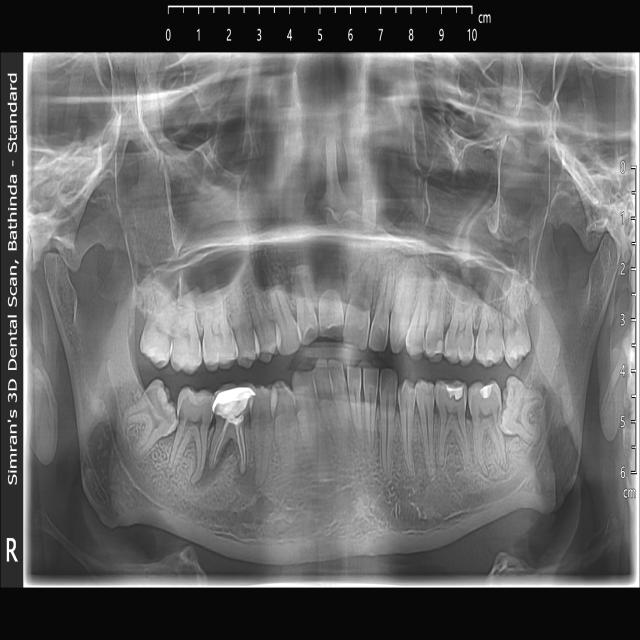Filling: (144, 380, 177, 429), (469, 380, 501, 421), (434, 380, 466, 412)
Periapical lesion: (199, 440, 227, 486), (531, 385, 550, 412), (531, 419, 545, 448)
Root Canal Treatment: (209, 384, 254, 475)
impacted tooth: (497, 374, 546, 447)
